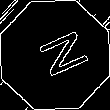N_SW: (24, 27, 86, 83)
